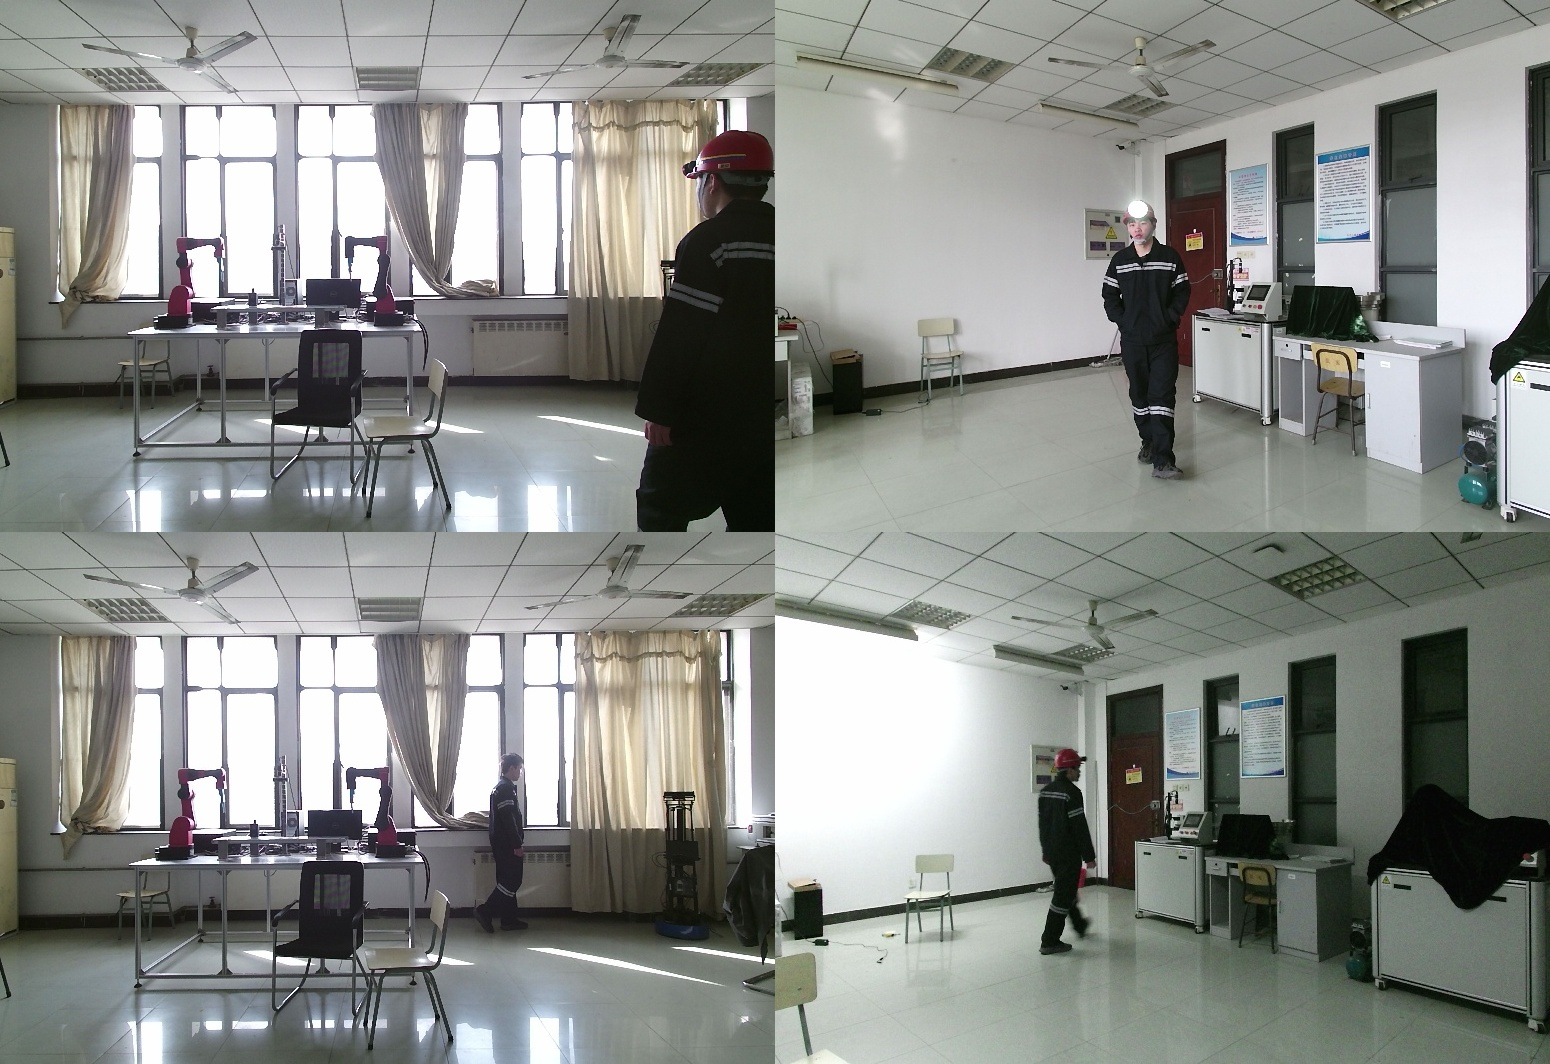person: (636, 131, 775, 532), (1100, 203, 1200, 480), (1034, 750, 1101, 960), (464, 752, 529, 940)
